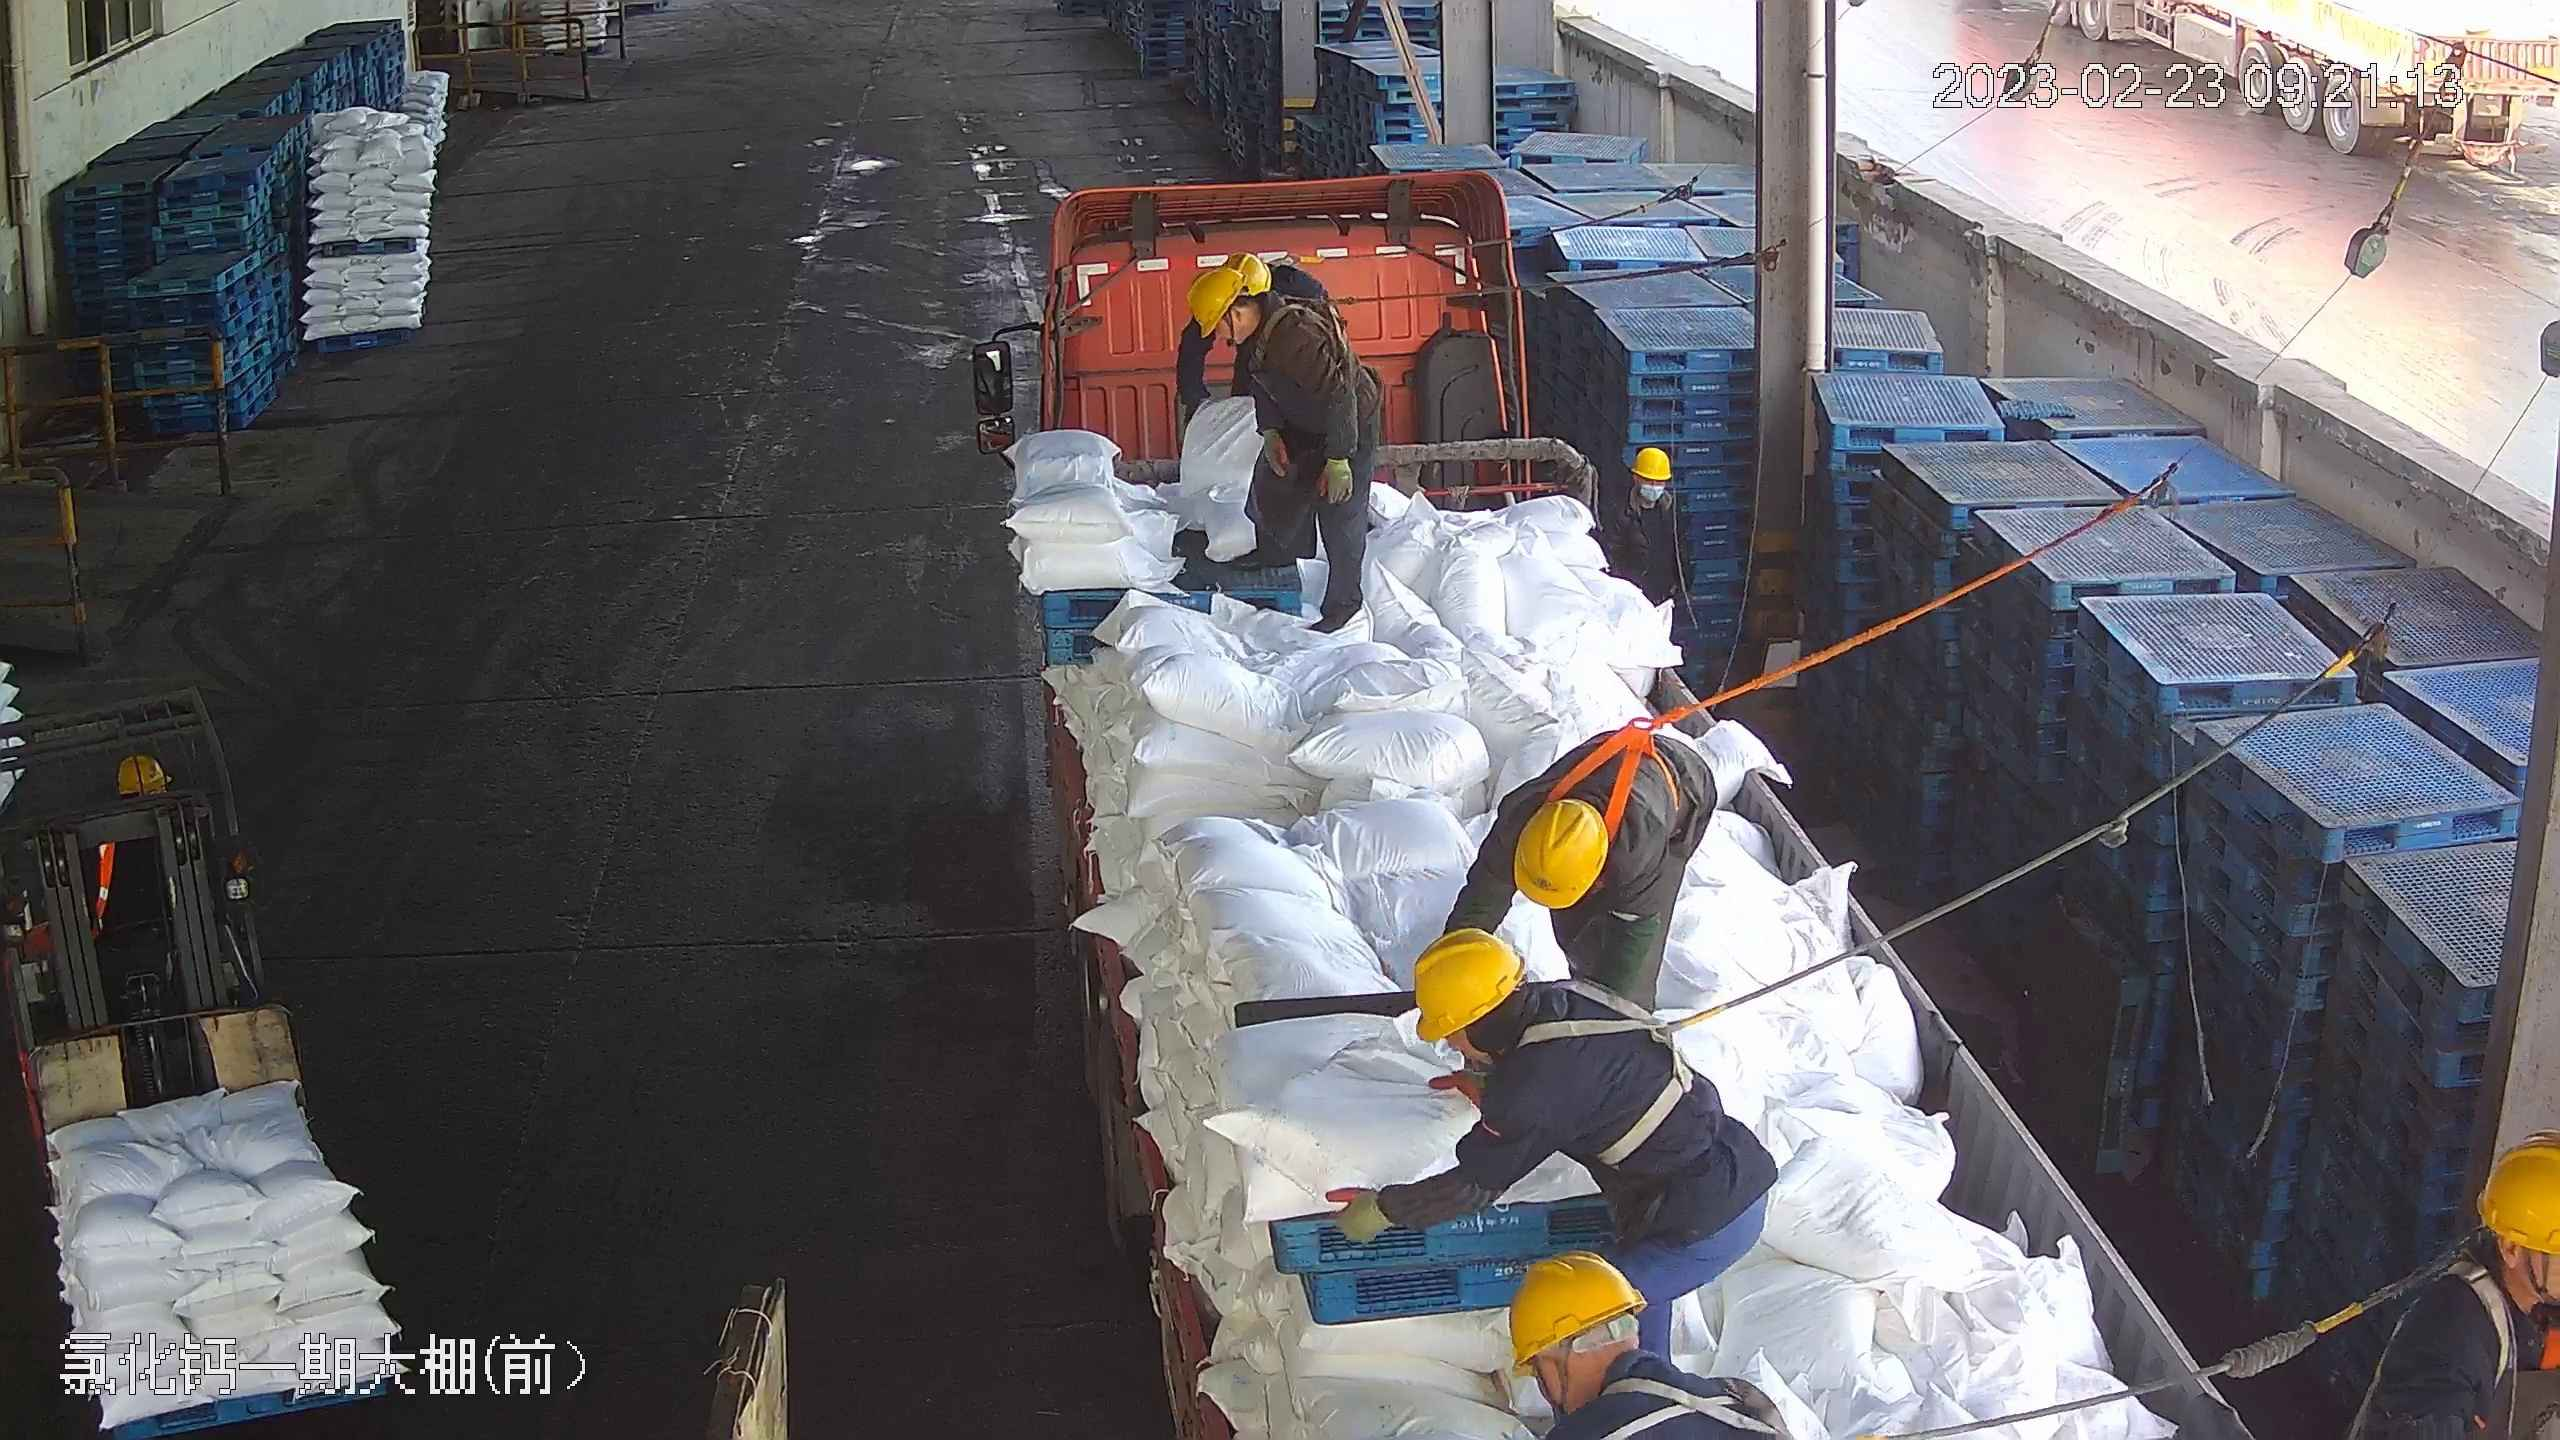belt: (1533, 973, 1709, 1178), (1545, 705, 1684, 885), (2433, 1253, 2558, 1393), (1613, 1357, 1796, 1440), (1253, 285, 1358, 349), (1258, 244, 1330, 281)
head: (1504, 1244, 1788, 1440), (2393, 1139, 2559, 1406), (1403, 933, 1624, 1101), (1484, 755, 1676, 919), (1182, 256, 1345, 369), (1607, 448, 1691, 539)
helmet: (1499, 1247, 1645, 1370), (1404, 927, 1528, 1036), (1510, 797, 1609, 910), (2474, 1134, 2558, 1259), (1177, 256, 1255, 338), (1628, 443, 1676, 483)
people: (1183, 259, 1384, 636), (1604, 437, 1696, 626)
truck: (975, 145, 2264, 1440)
